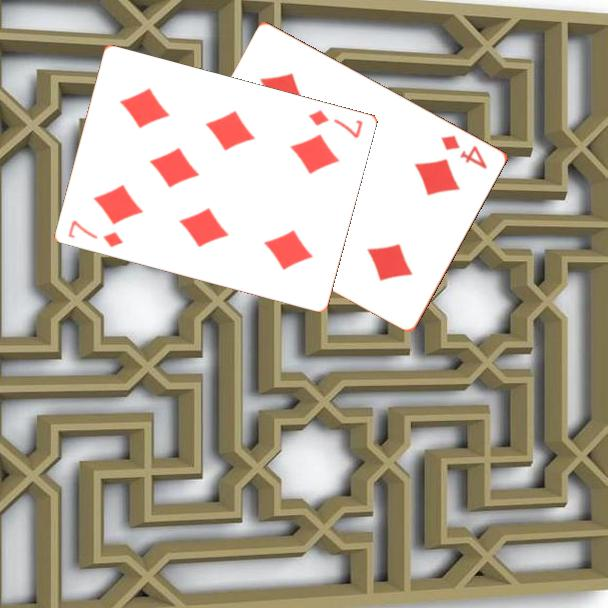d04: (438, 131, 491, 172)
d07: (305, 106, 365, 141), (64, 217, 125, 251)
